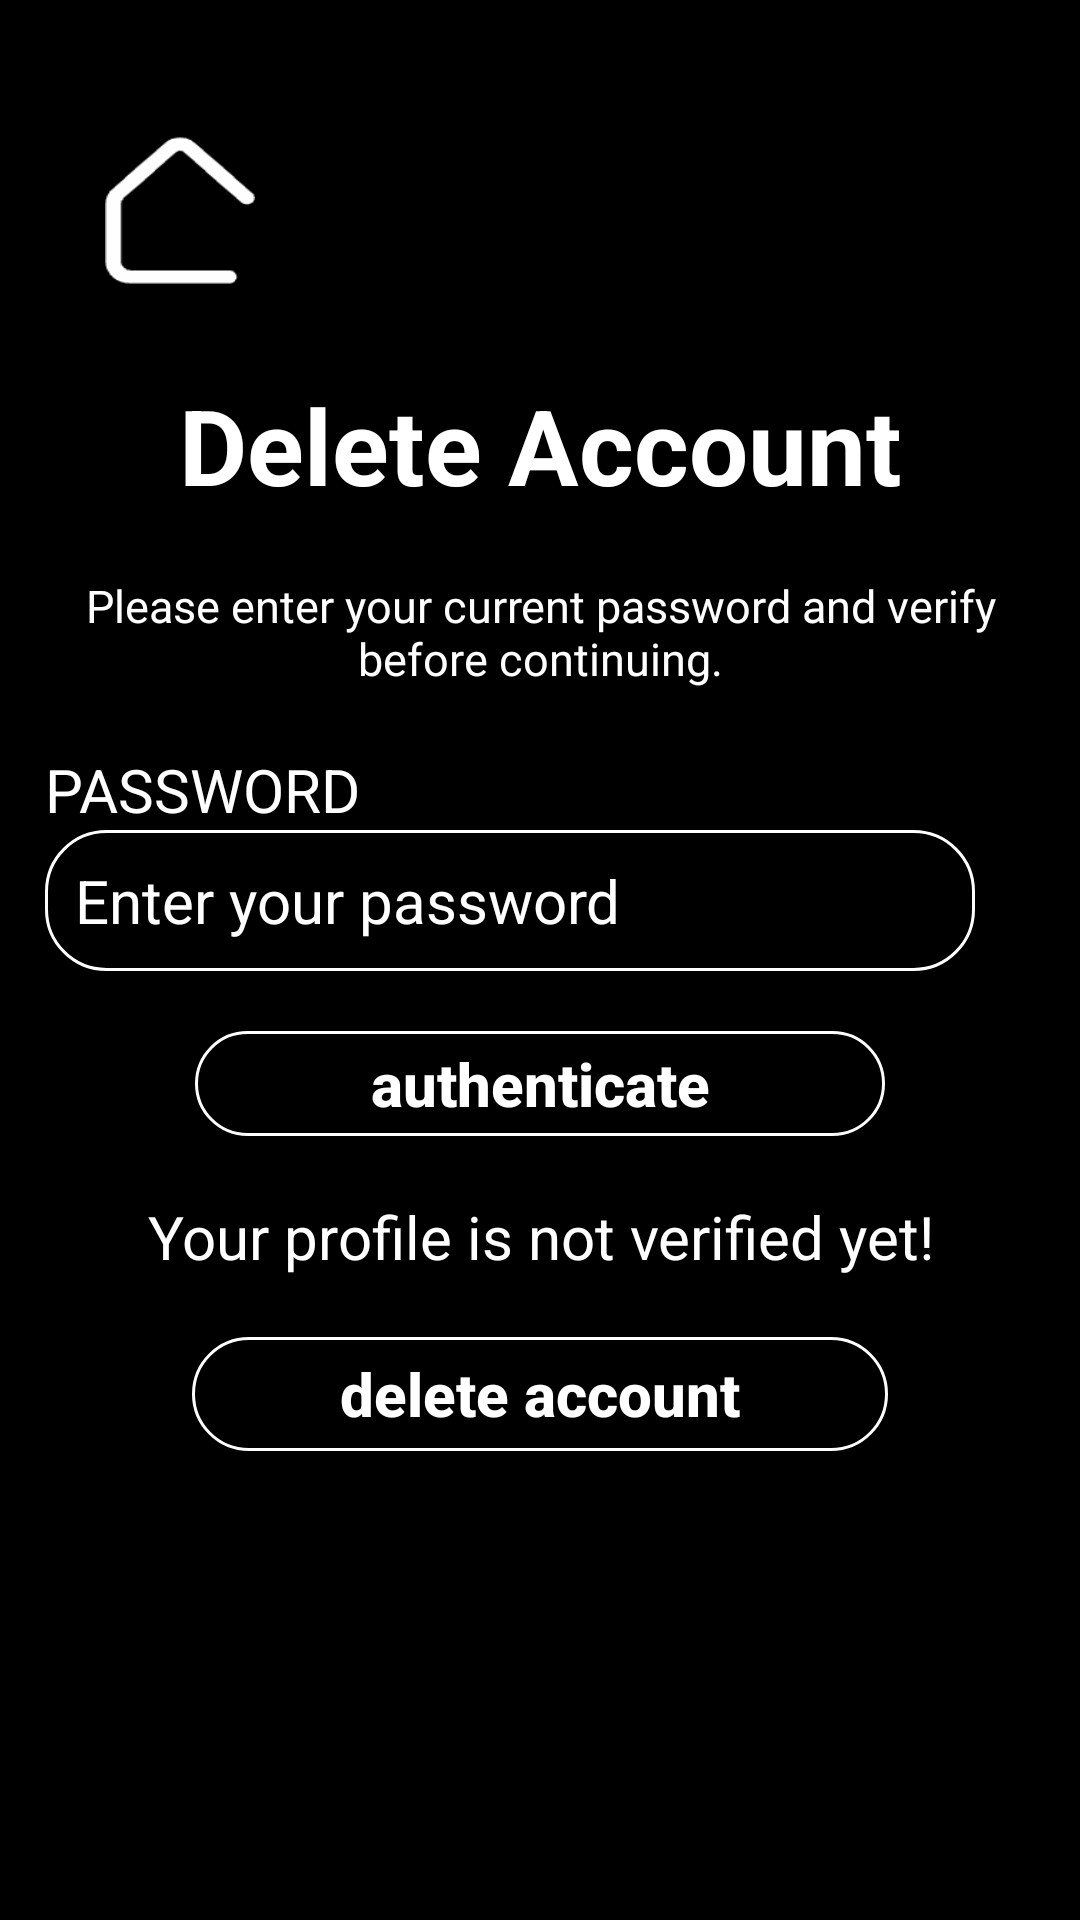

Named icons in this screenshot (1080px x 1920px) and their bounding boxes, (x1, y1, x2, y2):
home: (105, 137, 255, 284)
